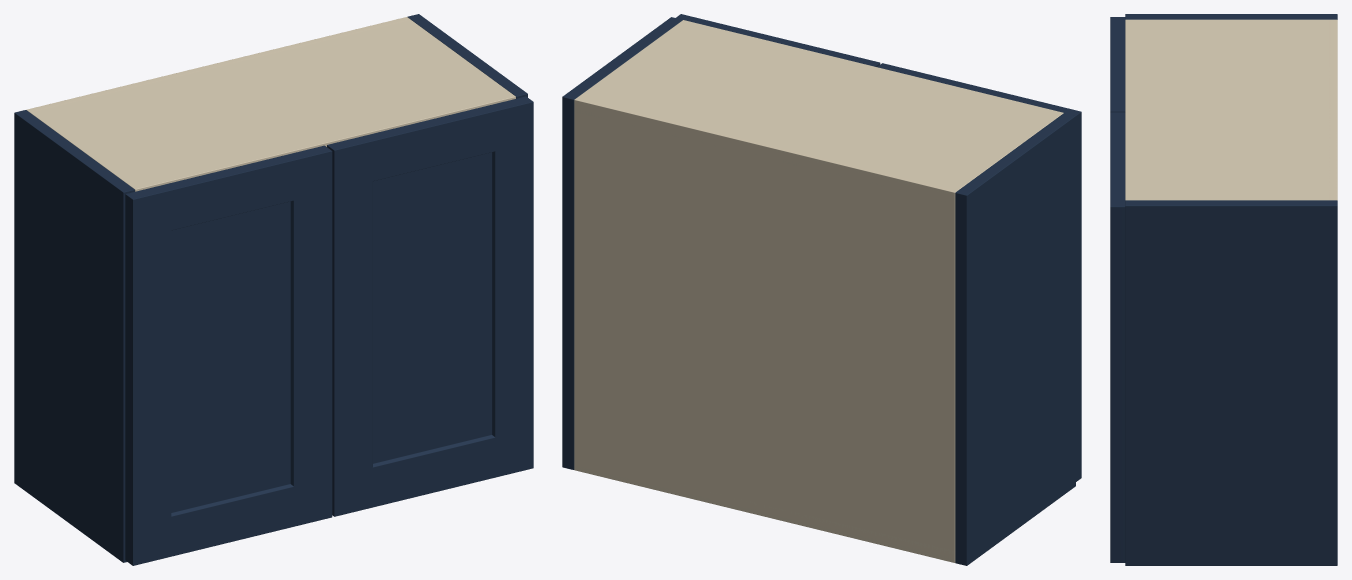
File: oppein-ply-bss-w2421.glb
The picture shows the model from 3 angles, left to right: view 1: azimuth 30°, elevation 25°; view 2: azimuth 150°, elevation 25°; view 3: azimuth 270°, elevation 25°; orthographic projection. The views are drawn at different scales.
Visible parts, largest first — view 1: Door, Door.001, Cabinet side, Cabinet top, Cabinet back, Cabinet side.001; view 2: Cabinet back, Cabinet side, Cabinet top, Cabinet side.001, Door, Cabinet bottom, Door.001; view 3: Cabinet side.001, Cabinet top, Door.001, Cabinet back, Door, Cabinet side.
Part boxes in pixels (box(x1,y1,x2,y2)): Door: box(125, 145, 332, 565); Door.001: box(327, 96, 533, 516); Cabinet side: box(14, 110, 134, 562); Cabinet top: box(27, 18, 515, 191); Cabinet back: box(27, 17, 410, 112); Cabinet side.001: box(407, 14, 527, 98); Cabinet back: box(574, 96, 958, 562); Cabinet side: box(955, 113, 1075, 565); Cabinet top: box(574, 20, 1063, 203); Cabinet side.001: box(562, 17, 682, 469); Door: box(877, 63, 1081, 481); Cabinet bottom: box(574, 461, 955, 561); Door.001: box(676, 14, 880, 66); Cabinet side.001: box(1125, 200, 1337, 565); Cabinet top: box(1125, 19, 1337, 200); Door.001: box(1110, 112, 1125, 562); Cabinet back: box(1329, 19, 1337, 200); Door: box(1110, 17, 1125, 112); Cabinet side: box(1125, 14, 1337, 19).
Size of the model in its own units: 0.6096 by 0.5334 by 0.3048.
